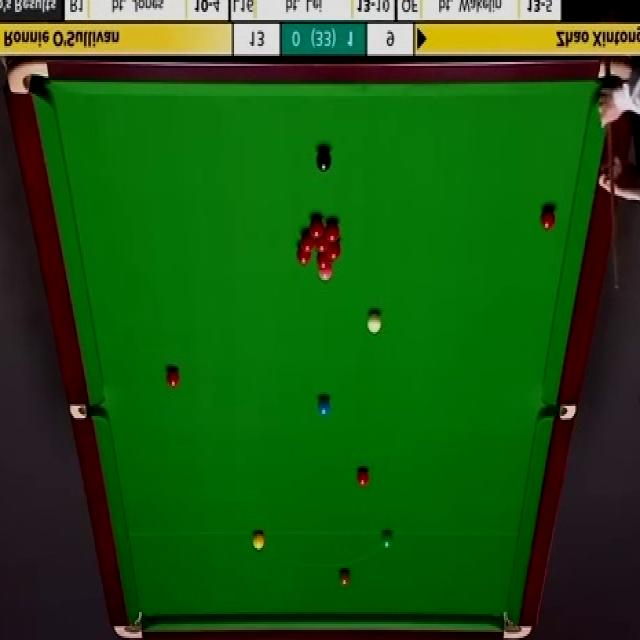black-ball: (315, 146, 331, 174)
blue-ball: (318, 396, 330, 418)
brown-ball: (338, 568, 352, 588)
green-ball: (379, 528, 395, 549)
pink-ball: (317, 270, 333, 282)
red-ball: (540, 205, 556, 231), (325, 218, 340, 242), (165, 366, 180, 388), (310, 217, 324, 239), (296, 245, 311, 265), (327, 239, 339, 261), (356, 468, 369, 488), (314, 237, 329, 254), (317, 253, 332, 270), (301, 233, 314, 251), (251, 122, 252, 122)
white-ball: (366, 309, 384, 334)
yellow-ball: (252, 530, 265, 550)
